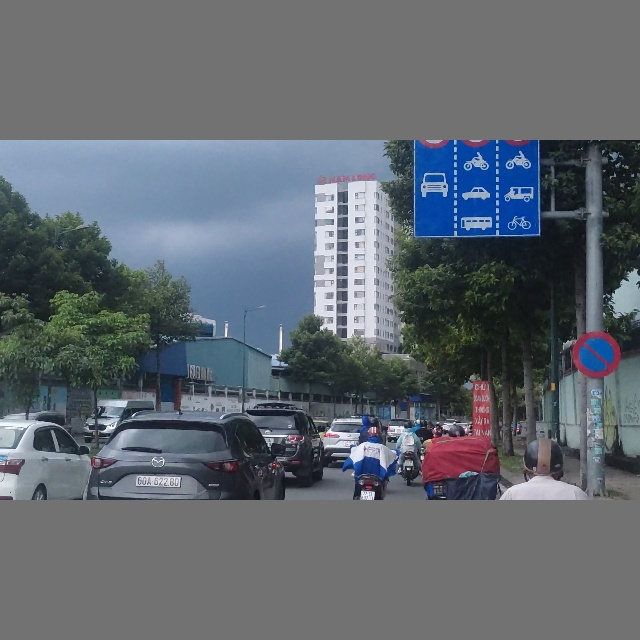P.131a: (572, 332, 620, 378)
R.415a: (412, 142, 539, 235)
